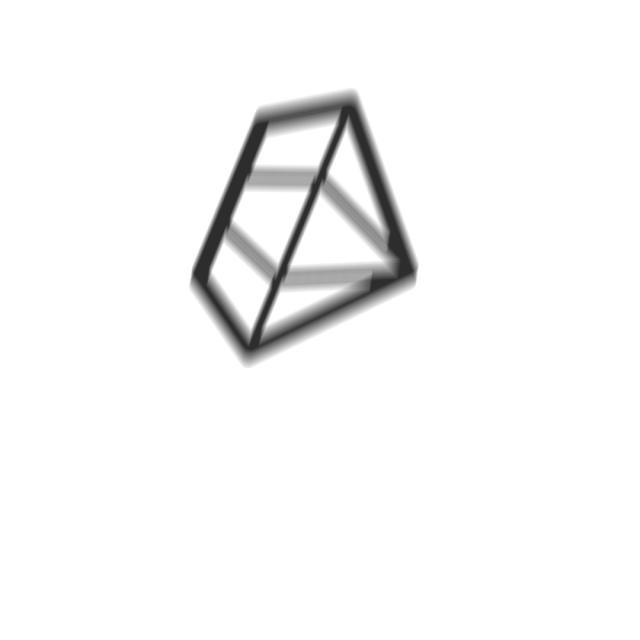diamond: (189, 88, 425, 373)
